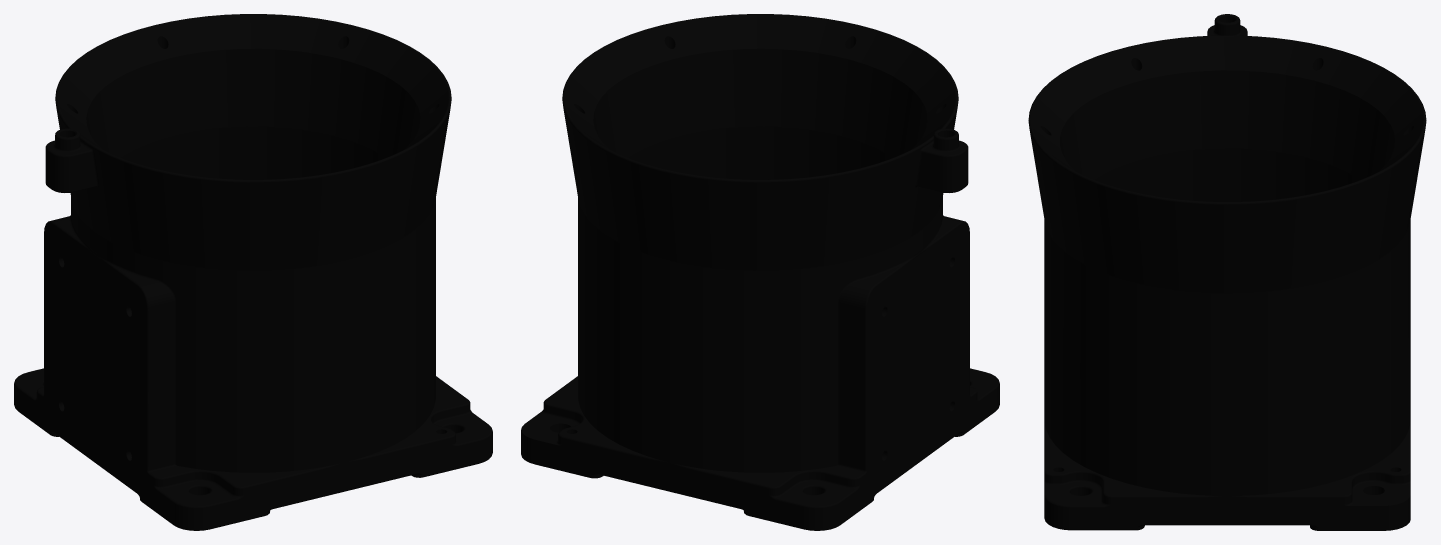
3 renders of one model, left to right at view 1: azimuth 30°, elevation 25°; view 2: azimuth 150°, elevation 25°; view 3: azimuth 270°, elevation 25°, orthographic.
Parts seen in each view (by area): view 1: Base; view 2: Base; view 3: Base.
Part boxes in pixels (left/top/right/bottom): Base: left=14, top=14, right=492, bottom=530; Base: left=521, top=14, right=999, bottom=530; Base: left=1028, top=14, right=1426, bottom=530.
Size of the model in its own units: 238 by 207 by 217.
Materials: 1 (1 with a texture image).
